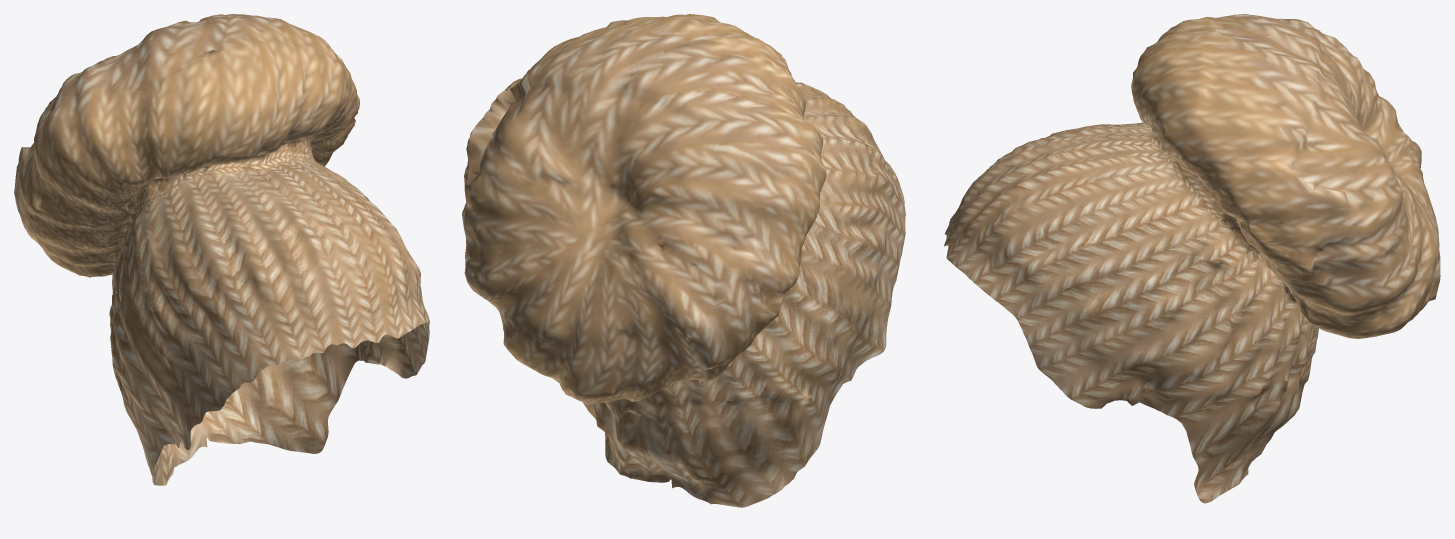
Rendered from mh_elvs_braid_bun.glb.
3 renders of one model, left to right at view 1: azimuth 30°, elevation 25°; view 2: azimuth 150°, elevation 25°; view 3: azimuth 270°, elevation 25°, orthographic. The views are drawn at different scales.
Visible parts, largest first — view 1: mh_elvs_braid_bun; view 2: mh_elvs_braid_bun; view 3: mh_elvs_braid_bun.
Part boxes in pixels (x1,y1,x2,y2): mh_elvs_braid_bun: (14, 14, 429, 485); mh_elvs_braid_bun: (462, 14, 905, 507); mh_elvs_braid_bun: (944, 14, 1440, 503).
Size of the model in its own units: 0.2008 by 0.2847 by 0.2875.
1 material, 1 textured.
